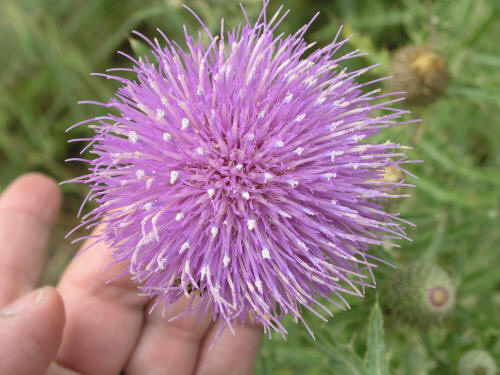thistle: (69, 6, 420, 342)
